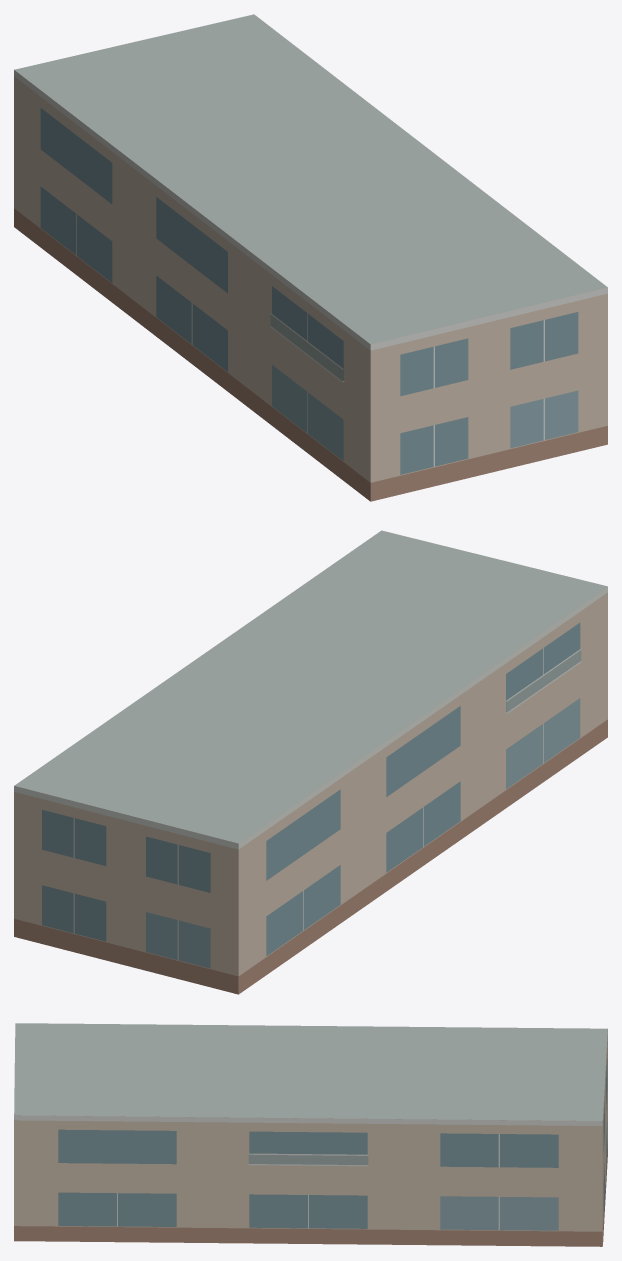
The model's file is survey-upis-32624265.glb.
3 views of the same model, one above another, from view 1: azimuth 30°, elevation 25°; view 2: azimuth 150°, elevation 25°; view 3: azimuth 270°, elevation 25° (orthographic). The views are drawn at different scales.
Visible parts, largest first — view 1: survey-upis-32624265.tmp; view 2: survey-upis-32624265.tmp; view 3: survey-upis-32624265.tmp.
Part boxes in pixels (x1,y1,x2,y2): survey-upis-32624265.tmp: (14,14,607,501); survey-upis-32624265.tmp: (14,530,607,994); survey-upis-32624265.tmp: (14,1023,607,1246).
Bounding box in the file's own units: 10.2 × 6.1 × 26.12.
